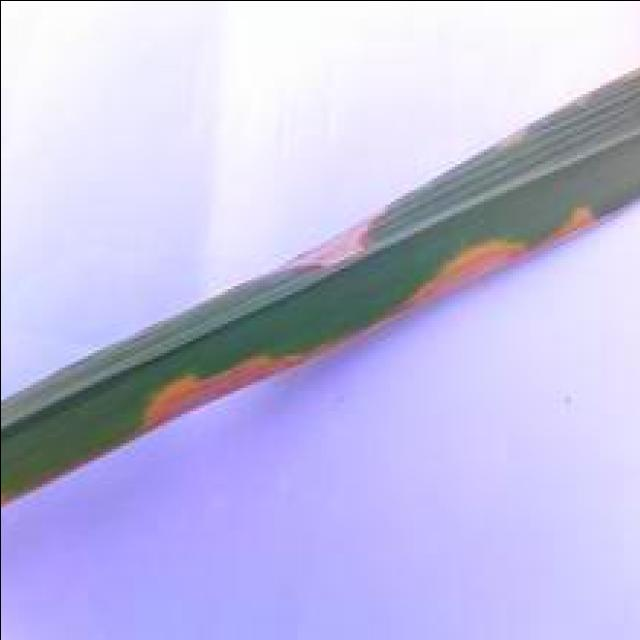Bacterial_Leaf_Blight: (387, 178, 617, 332), (116, 306, 328, 440), (227, 166, 396, 291)
